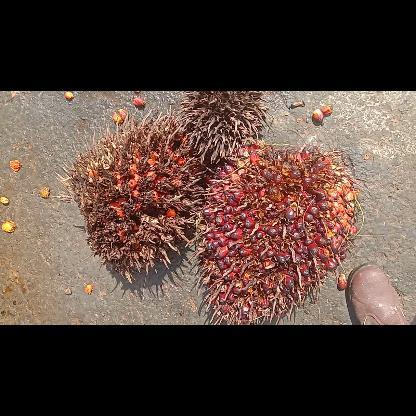Janjang kosong: (176, 91, 268, 161)
TBS masak: (186, 139, 362, 324)
Terlalu masak: (56, 108, 204, 282)
